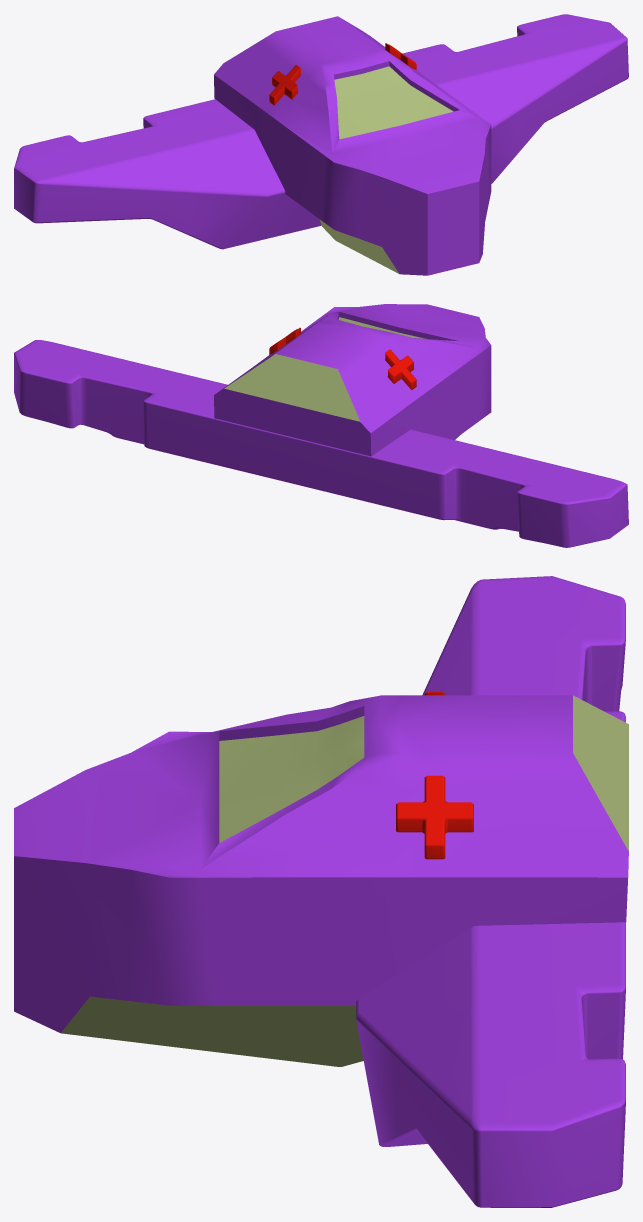
File: spaceship.glb
3 renders of one model, top to bottom at view 1: azimuth 30°, elevation 25°; view 2: azimuth 150°, elevation 25°; view 3: azimuth 270°, elevation 25°, orthographic. The views are drawn at different scales.
Parts seen in each view (by area): view 1: Object_3, Object_5, Object_2; view 2: Object_3, Object_5, Object_2; view 3: Object_3, Object_5, Object_2.
Boxes of the visible parts, x1,y1,x2,y2 form: Object_3: (14, 14, 628, 275); Object_5: (224, 62, 453, 273); Object_2: (269, 43, 416, 105); Object_3: (14, 304, 628, 547); Object_5: (224, 317, 459, 439); Object_2: (269, 327, 416, 389); Object_3: (14, 576, 628, 1207); Object_5: (61, 695, 628, 1066); Object_2: (396, 692, 473, 859).
Bounding box in the file's own units: 10.07 × 2.65 × 4.72.
